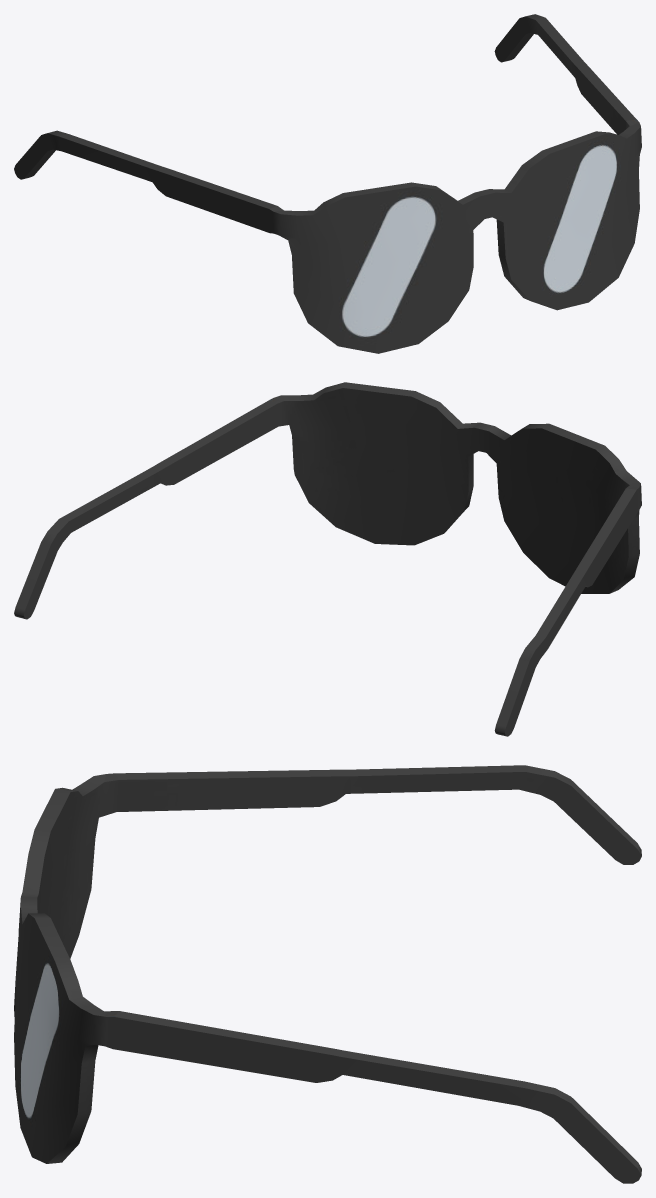
File: imposterSkin08Glasses.fbx
3 renders of one model, top to bottom at view 1: azimuth 30°, elevation 25°; view 2: azimuth 150°, elevation 25°; view 3: azimuth 270°, elevation 25°, orthographic. The views are drawn at different scales.
Visible parts, largest first — view 1: imposterSkin08_glasses_geo; view 2: imposterSkin08_glasses_geo; view 3: imposterSkin08_glasses_geo.
Boxes of the visible parts, x1=… form: imposterSkin08_glasses_geo: x1=14, y1=14, x2=641, y2=353; imposterSkin08_glasses_geo: x1=14, y1=382, x2=641, y2=736; imposterSkin08_glasses_geo: x1=14, y1=765, x2=641, y2=1183.
Size of the model in its own units: 2.44 by 0.7518 by 1.99.
1 material, 1 textured.
